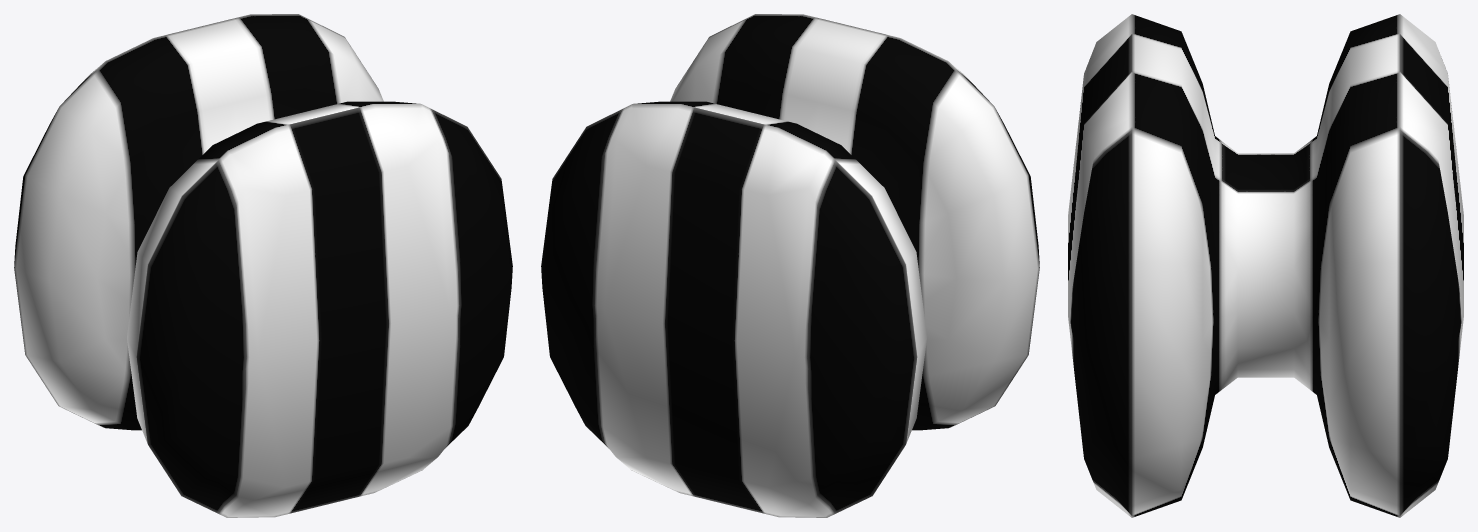
Rendered from yoyo.fbx.
3 views of the same model, side by side, from view 1: azimuth 30°, elevation 25°; view 2: azimuth 150°, elevation 25°; view 3: azimuth 270°, elevation 25° (orthographic). The views are drawn at different scales.
Parts seen in each view (by area): view 1: Box001; view 2: Box001; view 3: Box001.
Boxes of the visible parts, x1,y1,x2,y2 form: Box001: (14,14,512,517); Box001: (541,14,1039,517); Box001: (1068,14,1463,517).
Size of the model in its own units: 11.1 by 10.98 by 9.27.
Materials: 1 (1 with a texture image).
